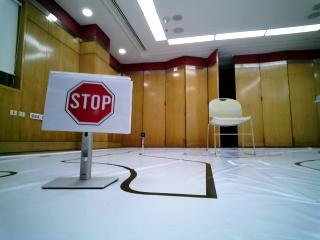stop: (60, 76, 124, 129)
